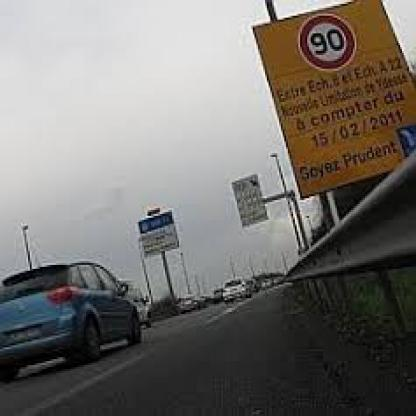Speed Limit 90: (298, 18, 354, 67)
